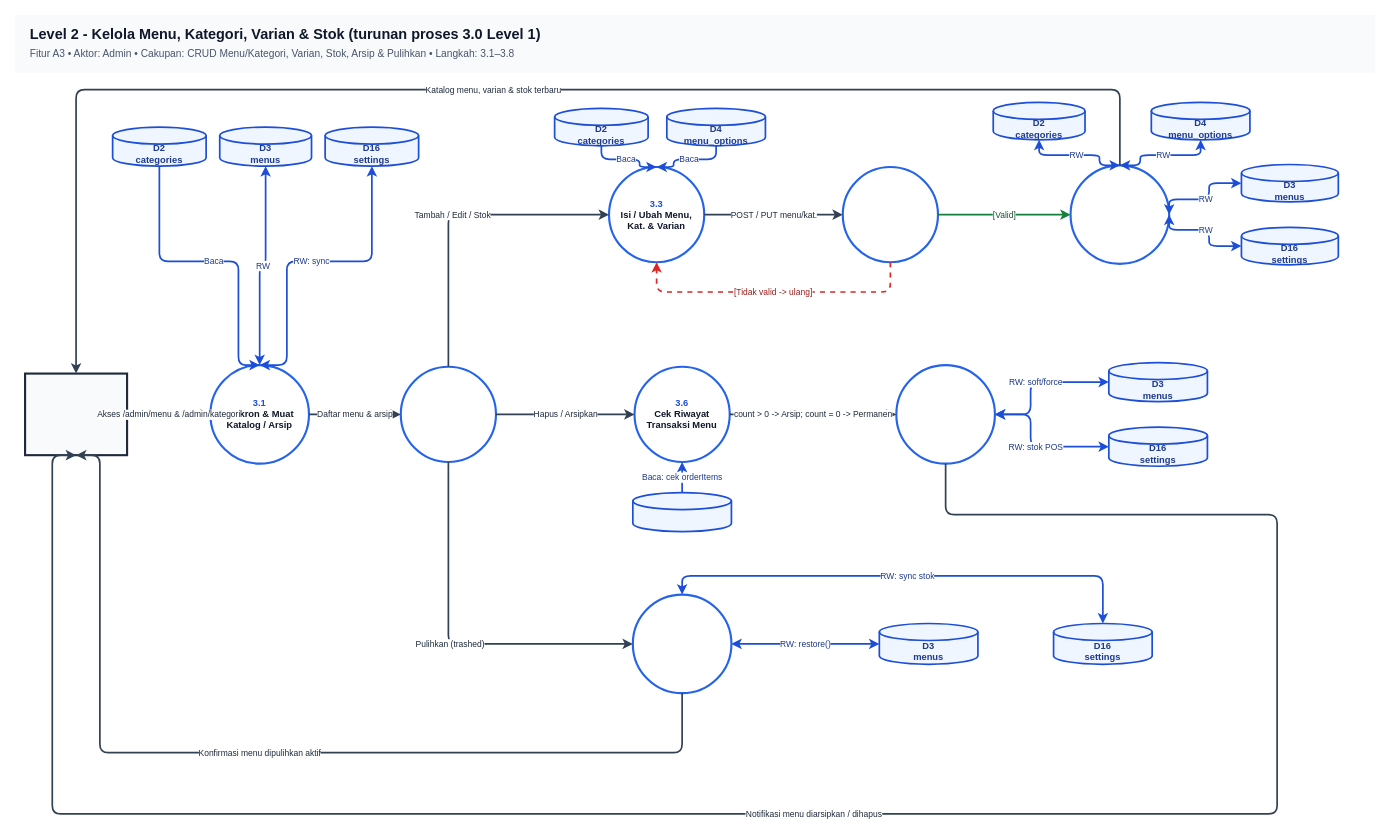
Some shapes in this 1389 by 836 pixel diagram are drawn without their labels. Each missing label, with the centre of its shape:
"3.2 Pilih Aksi Menu / Kat. / Arsip" belongs at (448,414).
"3.4 Validasi Menu, Varian & Foto" belongs at (890,214).
"3.5 Simpan Menu, Varian & Stok POS" belongs at (1119,214).
"3.7 Arsipkan (Soft) / Hapus Permanen" belongs at (945,414).
"3.8 Pulihkan Menu Terarsip (Restore)" belongs at (681,643).
"Admin Terautentikasi" belongs at (76,414).
"D7 order_items" belongs at (682,511).
